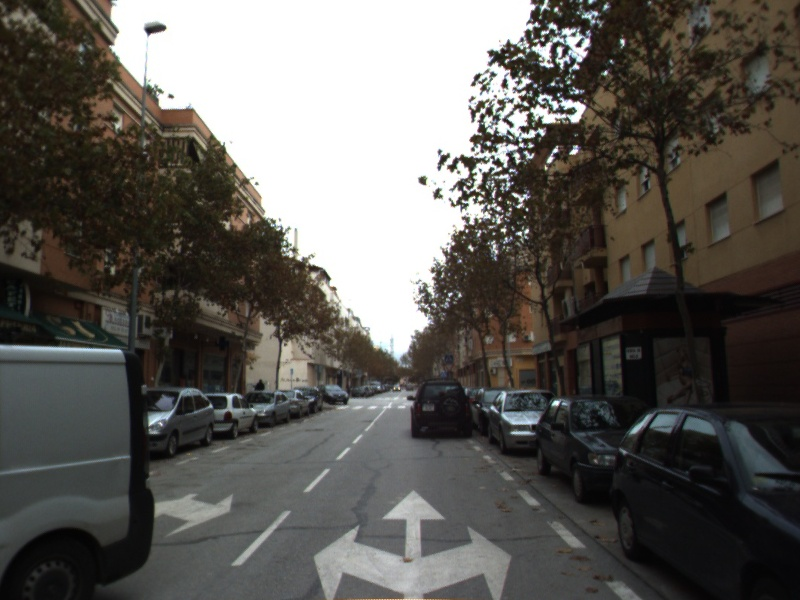STRAIGHT_LEFT_RIGHT: (311, 486, 515, 600)
